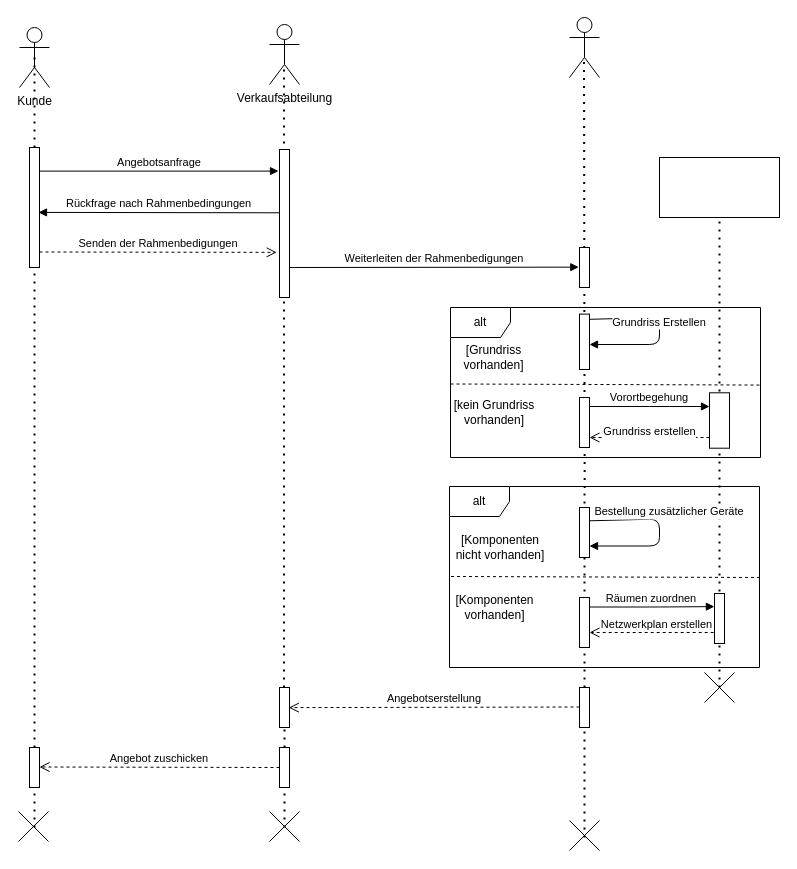
Some shapes in this 797 by 869 pixel diagram are drawn without their labels. The shapes that lost their labels are listed below. From the top down, each one's centre as x and y in pixels, then its label:
the point at 584,47: Bearbeiter
the point at 719,187: Gebäude
